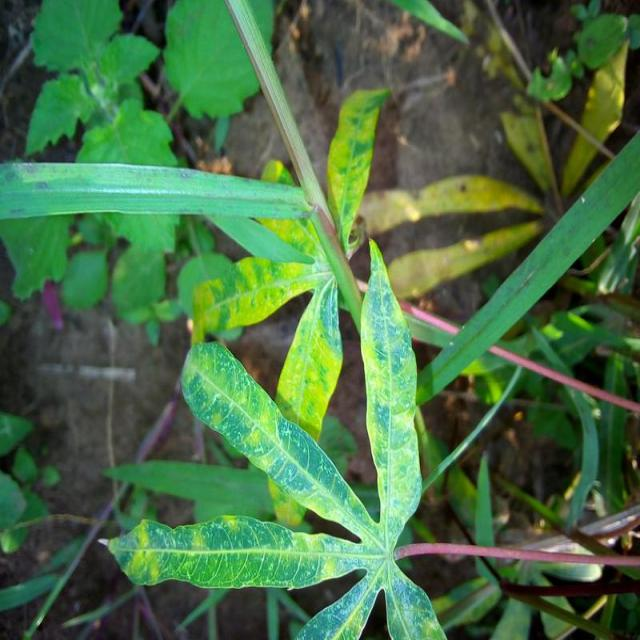cassava leaf: (102, 235, 447, 638), (358, 236, 424, 548)
